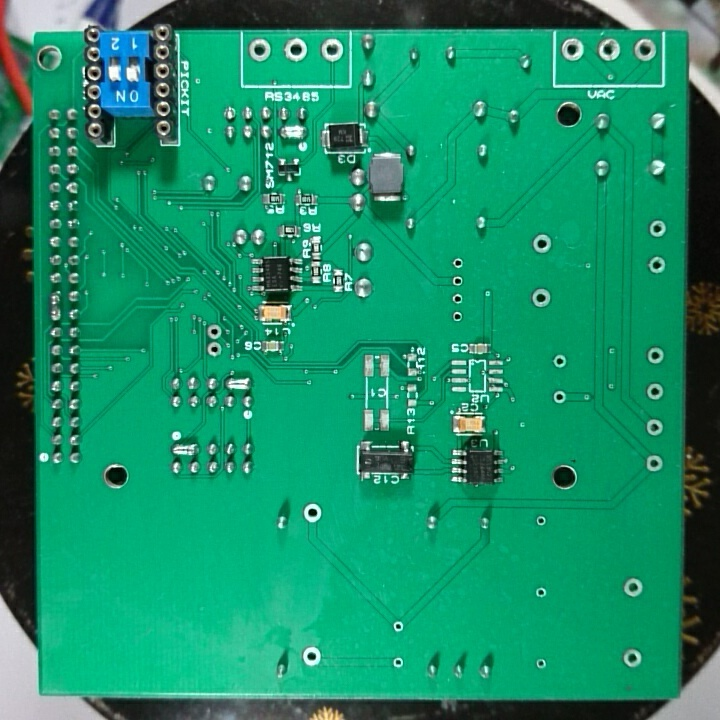F: (317, 34, 348, 66), (281, 35, 311, 67), (630, 36, 660, 68), (560, 36, 588, 67), (246, 36, 273, 67), (595, 37, 625, 64), (300, 643, 326, 672), (300, 501, 326, 530), (620, 574, 647, 600), (530, 230, 554, 258), (620, 647, 646, 672), (646, 216, 670, 243), (641, 415, 666, 440), (529, 287, 554, 311), (644, 343, 667, 369), (642, 452, 666, 476), (646, 254, 668, 280), (642, 380, 665, 404), (549, 351, 570, 372), (533, 510, 549, 535), (203, 340, 223, 360), (447, 289, 466, 309), (389, 617, 407, 637), (204, 323, 224, 341), (449, 306, 466, 327), (551, 387, 568, 408), (389, 654, 407, 672), (449, 272, 467, 289), (533, 655, 550, 672), (533, 584, 550, 601), (450, 255, 466, 272)
P: (275, 122, 310, 142), (222, 372, 255, 393), (47, 287, 63, 324), (168, 442, 201, 459)
